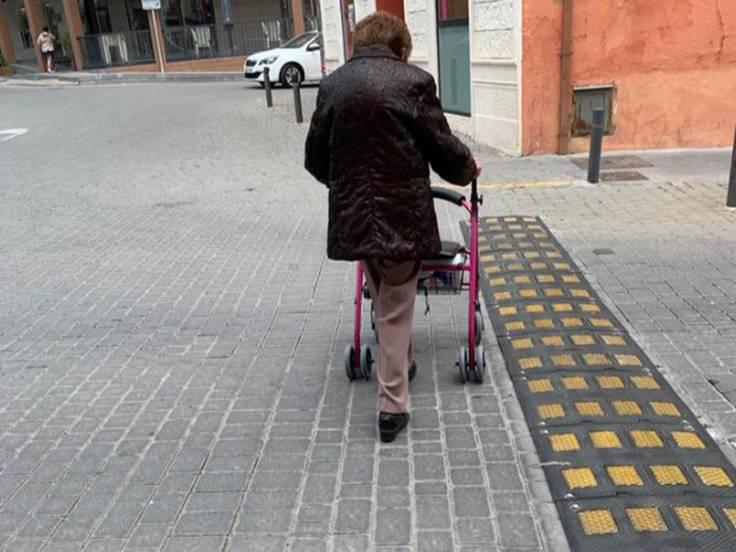walking_frame: (304, 12, 487, 443)
